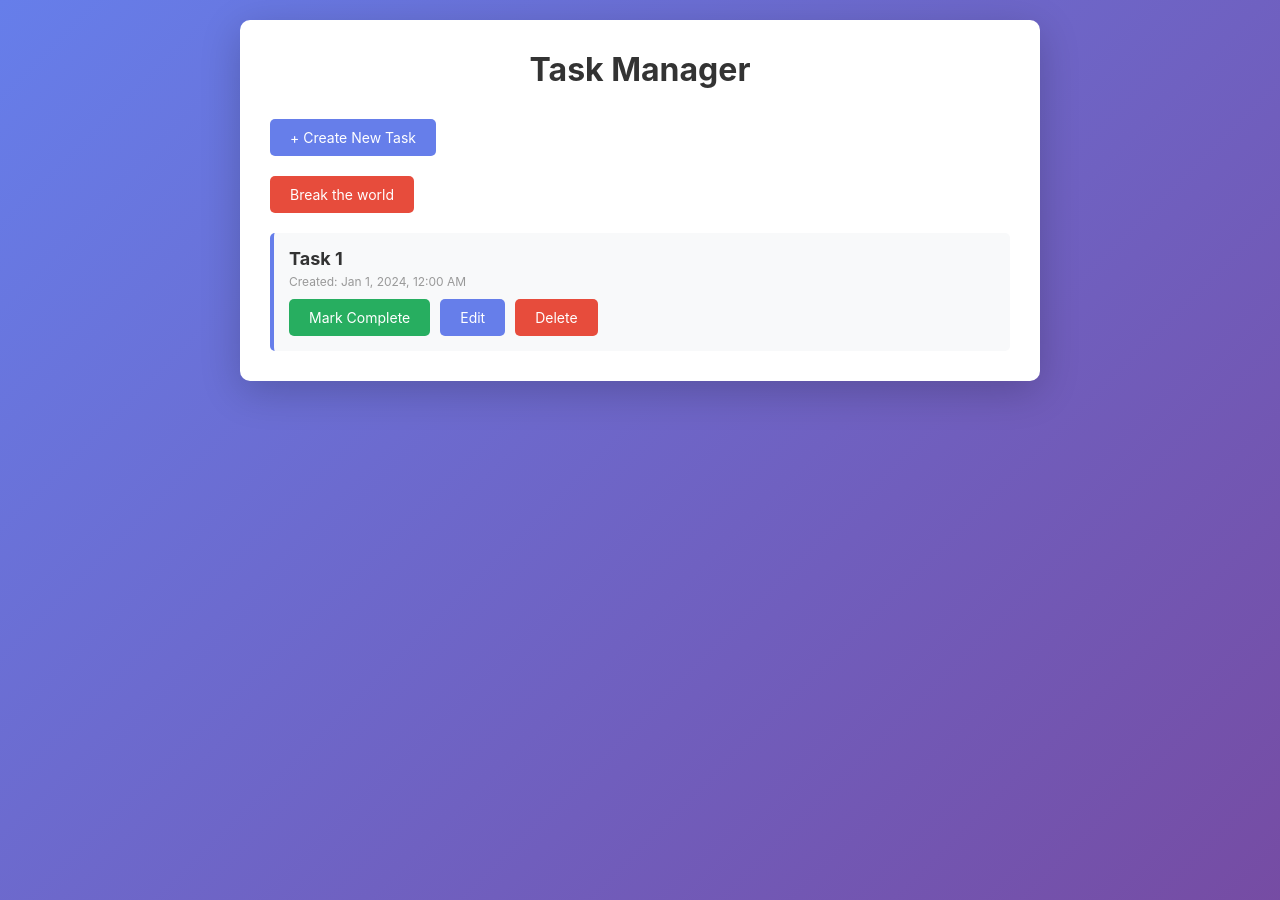
App › Delete task › displays error message when deleting task fails
Expected: the text "Task 1" is shown, [289, 248, 343, 269]
Click the button "Delete" at (556, 318), box [515, 299, 598, 336]
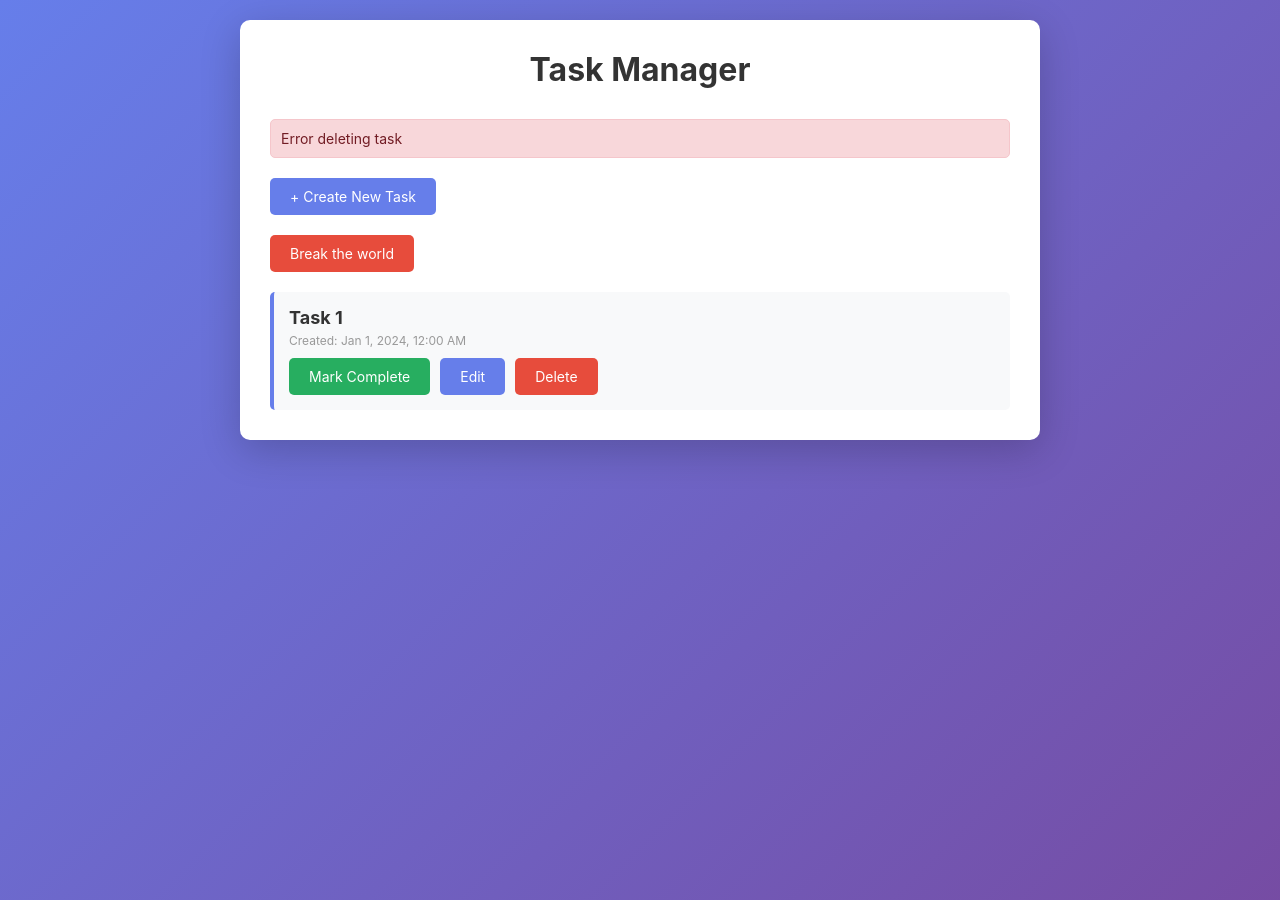
Now the text "Error deleting task" is shown, box [270, 119, 1010, 158]
